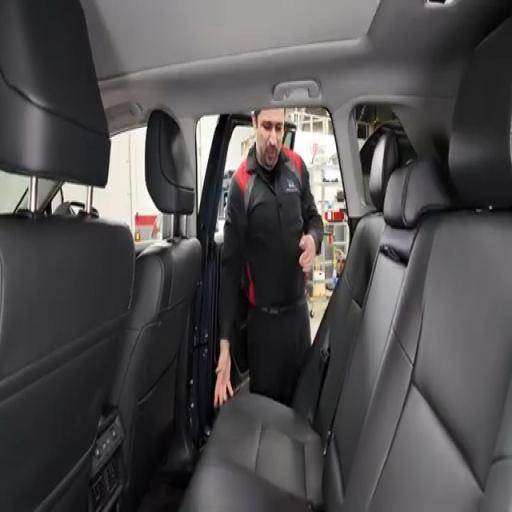door: (192, 114, 251, 440)
windshield: (0, 171, 28, 214)
